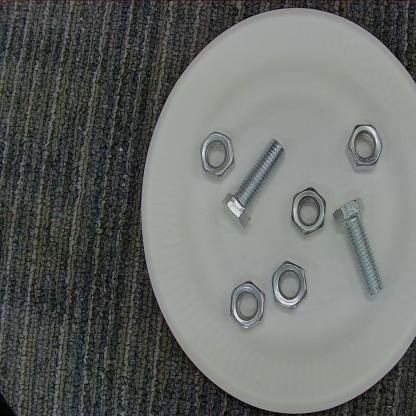FOD: (217, 135, 289, 232), (328, 194, 386, 307), (288, 176, 330, 247), (196, 126, 240, 188), (269, 258, 313, 316), (226, 276, 268, 336), (345, 118, 386, 176)
